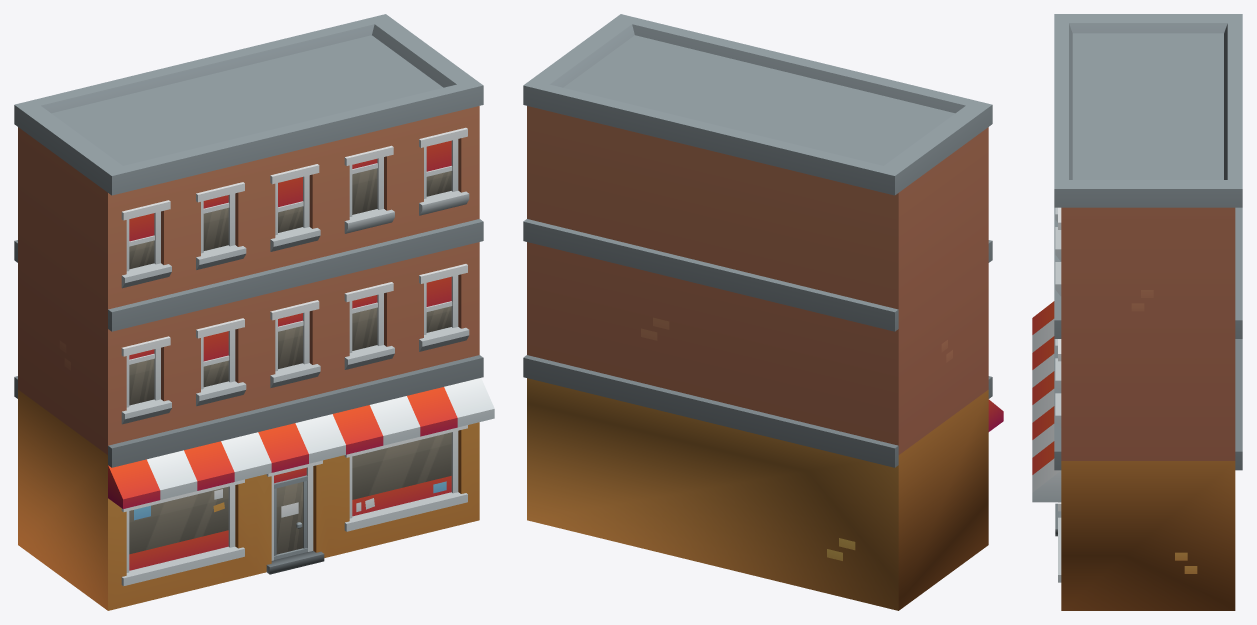
File: building_E.fbx
3 renders of one model, left to right at view 1: azimuth 30°, elevation 25°; view 2: azimuth 150°, elevation 25°; view 3: azimuth 270°, elevation 25°, orthographic. The views are drawn at different scales.
Visible parts, largest first — view 1: building_E; view 2: building_E; view 3: building_E.
Boxes of the visible parts, x1,y1,x2,y2 form: building_E: (14, 14, 494, 610); building_E: (523, 14, 1003, 610); building_E: (1032, 14, 1242, 610).
Bounding box in the file's own units: 2.01 × 2.25 × 1.02.
